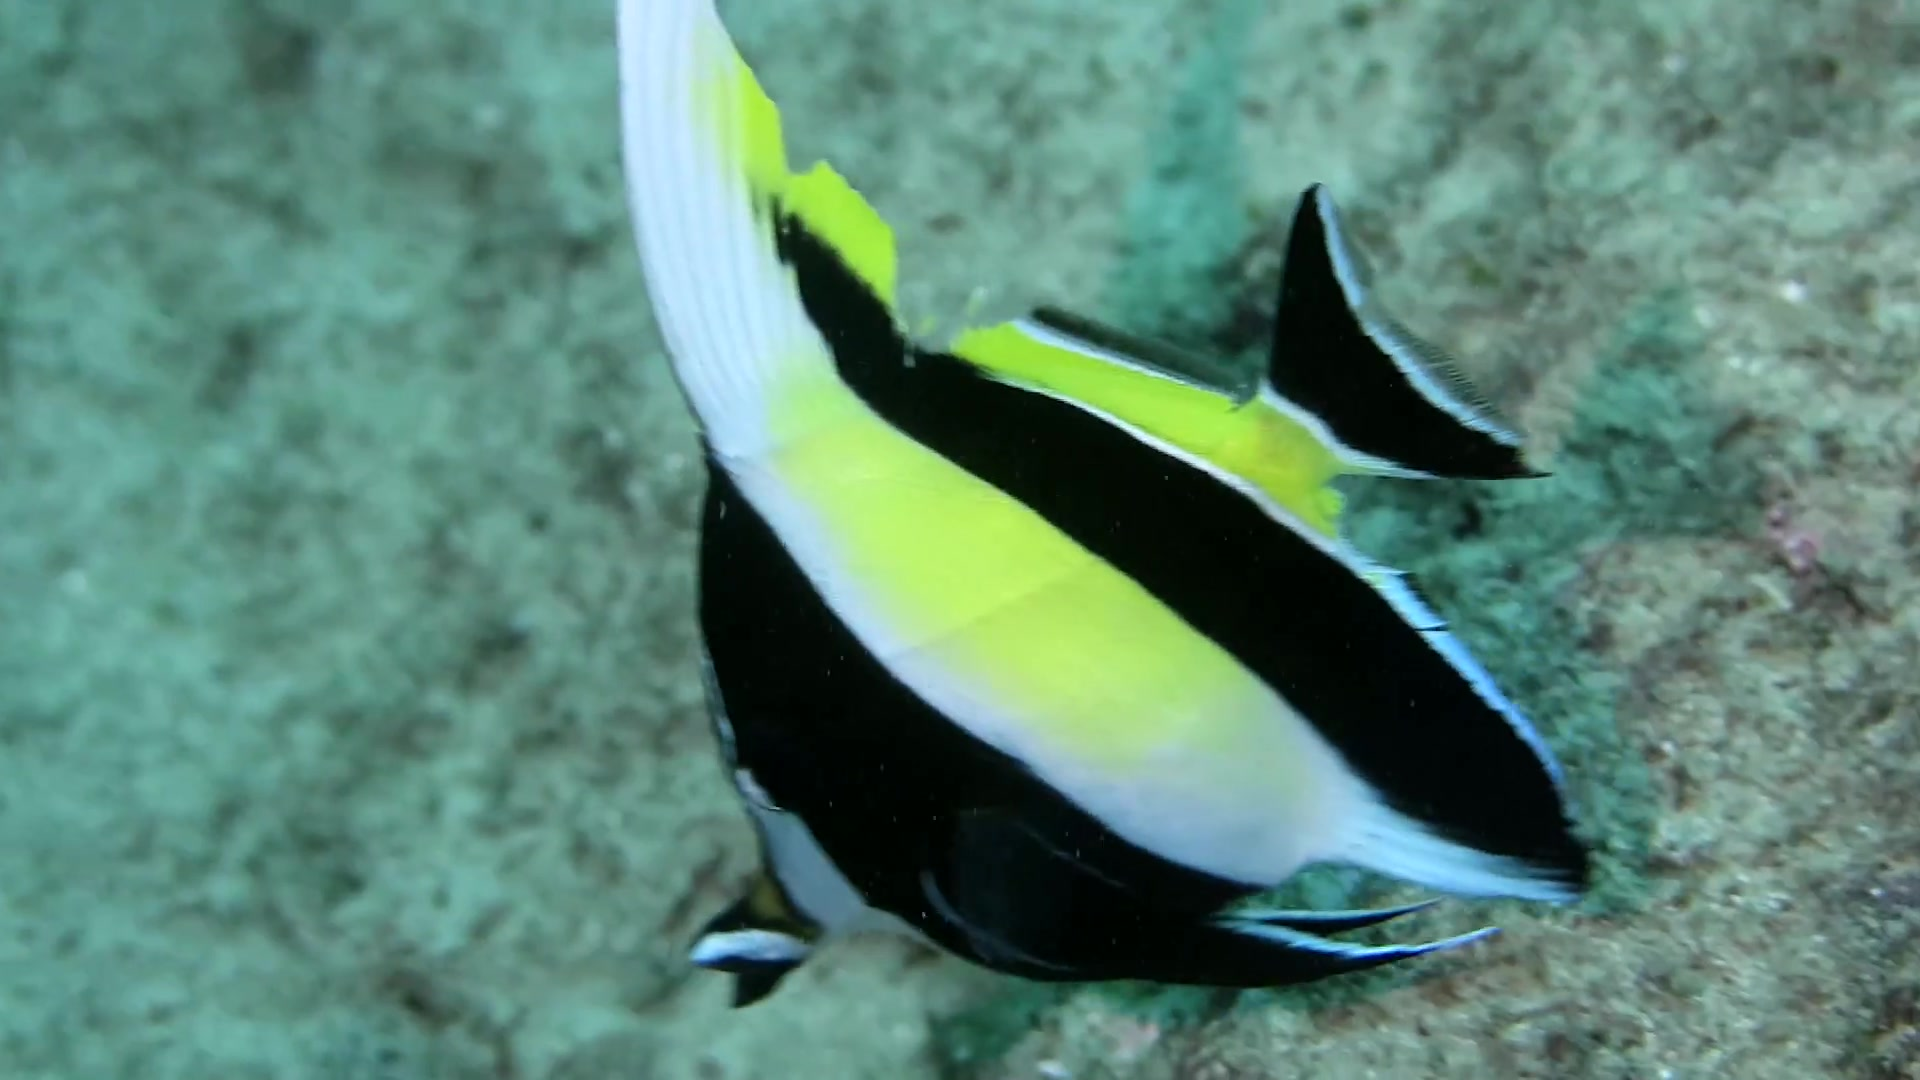Zanclus cornutus: (647, 191, 1557, 1013)
